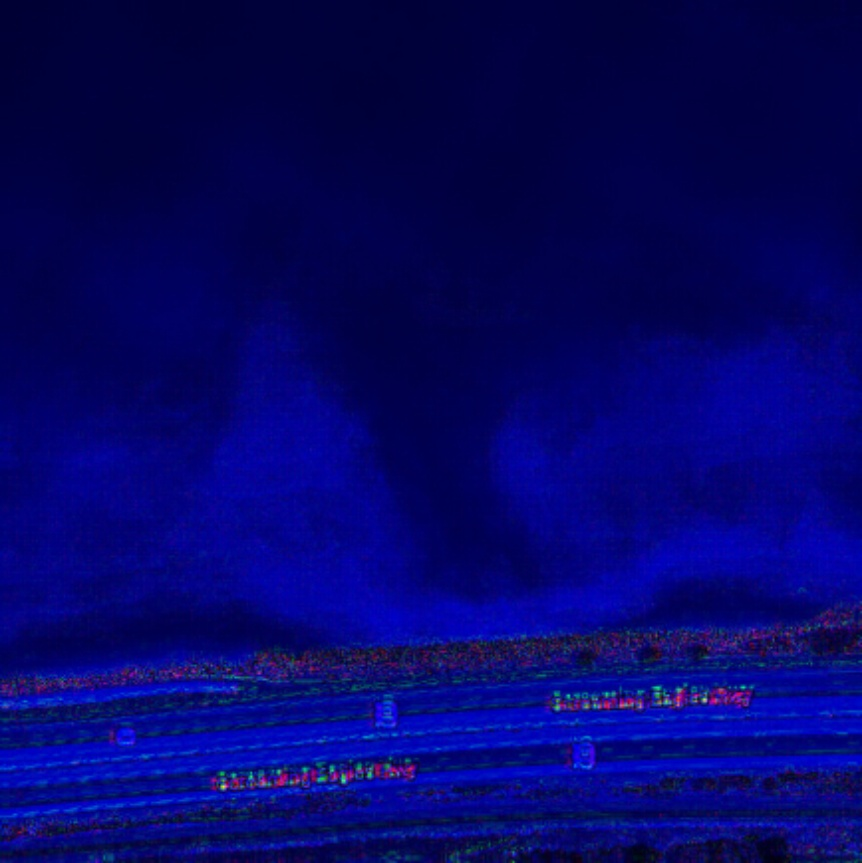rip_current: (246, 242, 601, 614)
